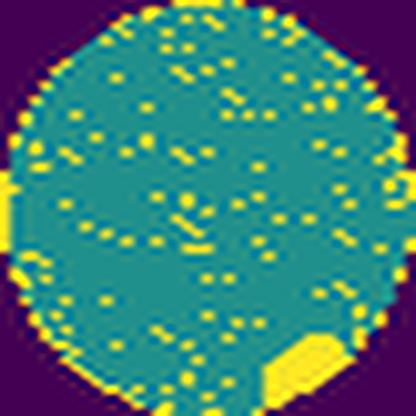Edge-Loc: (255, 328, 360, 416)
